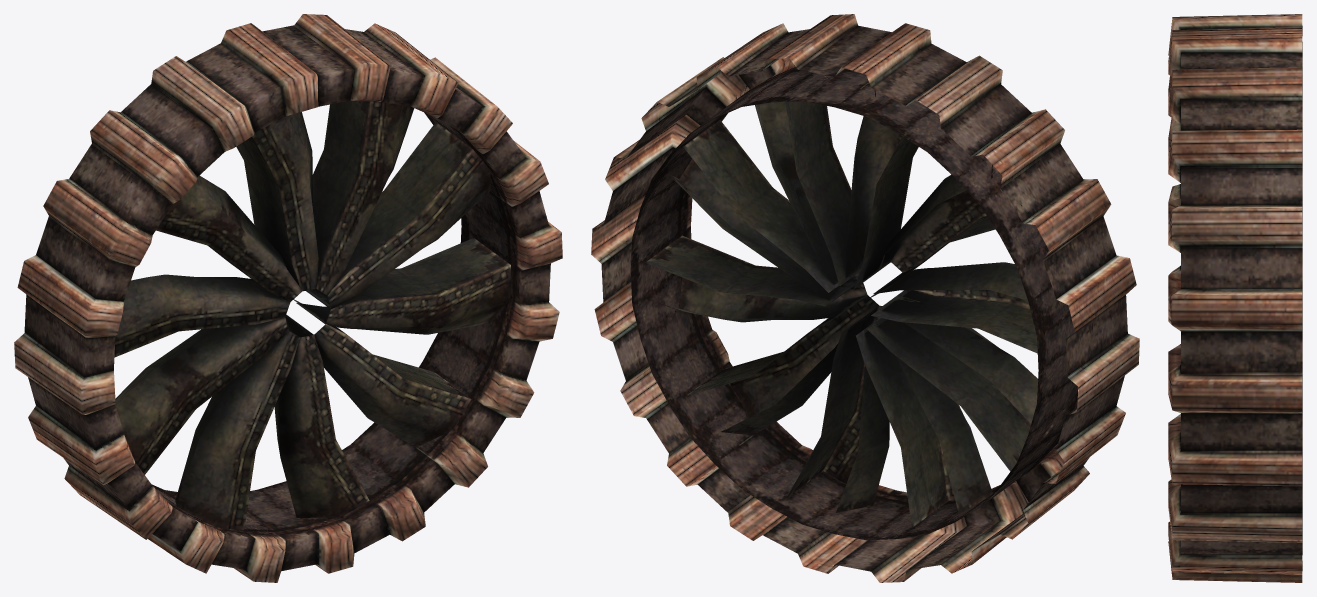
File: elevator_machine_cog_main.dae
3 renders of one model, left to right at view 1: azimuth 30°, elevation 25°; view 2: azimuth 150°, elevation 25°; view 3: azimuth 270°, elevation 25°, orthographic.
Parts seen in each view (by area): view 1: wheel; view 2: wheel; view 3: wheel.
Boxes of the visible parts, x1,y1,x2,y2 form: wheel: (14,14,562,582); wheel: (591,14,1139,582); wheel: (1168,14,1302,582).
Bounding box in the file's own units: 3.14 × 3.14 × 0.7417.
